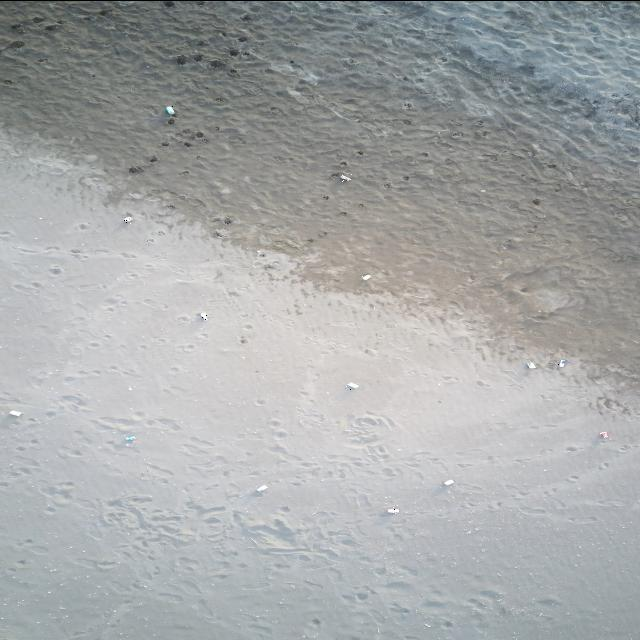Garbage: (164, 104, 175, 115), (176, 54, 187, 64), (9, 409, 22, 416), (128, 166, 143, 172), (256, 484, 267, 492), (346, 382, 357, 390), (340, 173, 351, 181), (557, 359, 567, 367), (124, 435, 135, 442), (524, 360, 535, 367), (599, 431, 607, 439), (362, 273, 371, 280), (444, 479, 453, 486), (387, 507, 399, 512), (200, 312, 207, 320), (124, 216, 131, 223), (167, 116, 173, 123), (148, 155, 156, 160)
